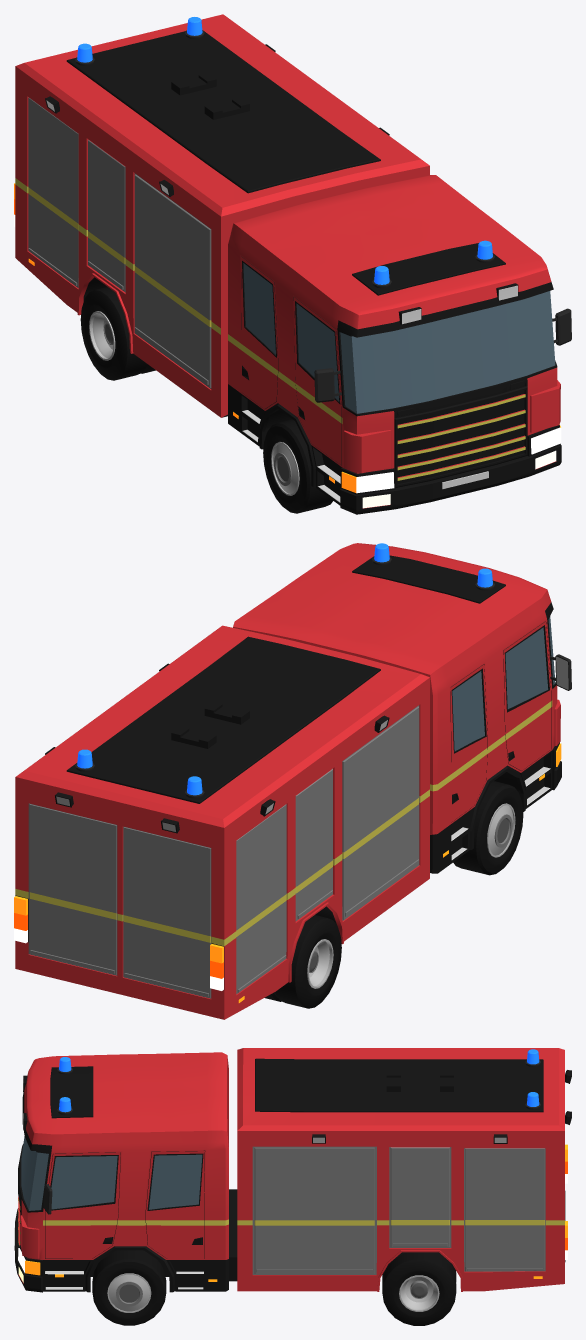
The model's file is fire-red.glb.
The picture shows the model from 3 angles, top to bottom: view 1: azimuth 30°, elevation 25°; view 2: azimuth 150°, elevation 25°; view 3: azimuth 270°, elevation 25°; orthographic projection. The views are drawn at different scales.
Visible parts, largest first — view 1: FireTruckLow; view 2: FireTruckLow; view 3: FireTruckLow.
Boxes of the visible parts, <box> form: FireTruckLow: <box>14,14,571,514</box>; FireTruckLow: <box>14,543,571,1019</box>; FireTruckLow: <box>14,1048,571,1325</box>.
Size of the model in its own units: 0.4219 by 0.419 by 1.
